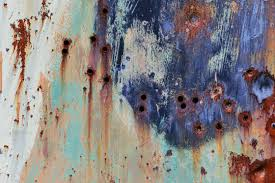rust: (11, 18, 33, 128), (226, 151, 275, 182), (173, 4, 216, 39), (262, 89, 275, 136), (173, 93, 202, 113), (58, 36, 73, 61), (240, 67, 260, 84), (236, 111, 253, 130), (137, 92, 149, 118), (191, 122, 207, 141), (213, 118, 226, 137), (208, 85, 223, 101), (86, 32, 100, 47), (100, 73, 114, 88), (84, 65, 95, 80), (99, 6, 110, 20)
